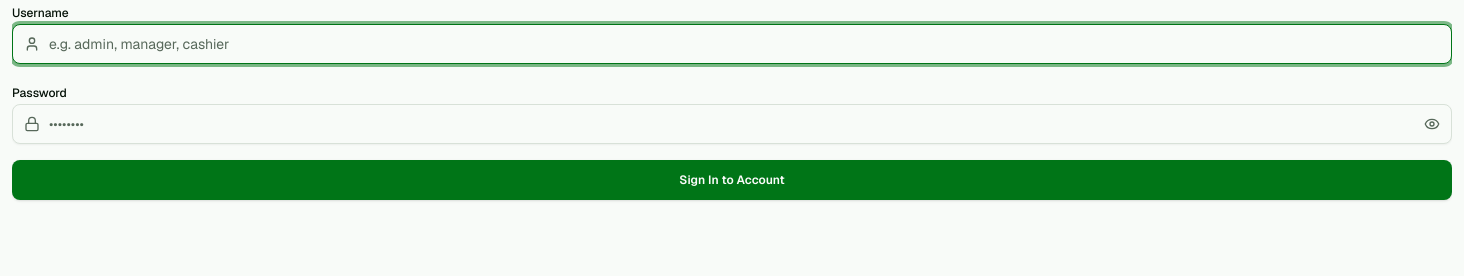
LoginForm › should handle unexpected errors during sign in
Type "test" into the field labelled "Username". click: point(732, 44)
box: [12, 24, 1452, 64]
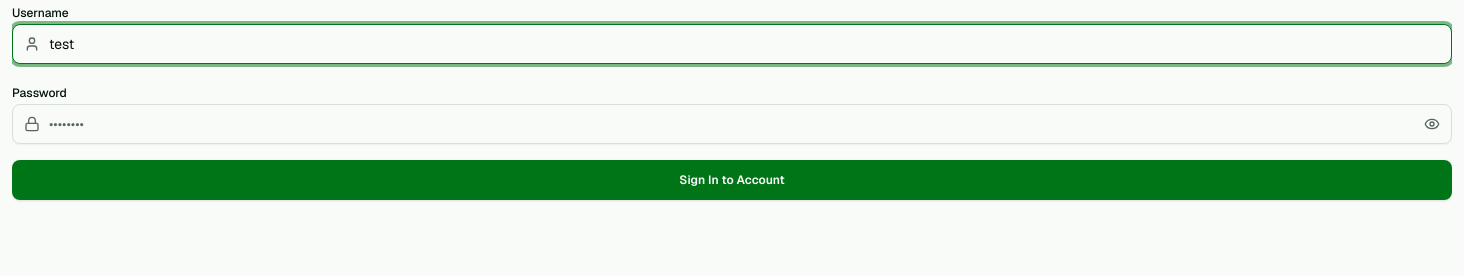
Type "password" into the password field labelled "Password". click: point(732, 124)
box: [12, 104, 1452, 144]
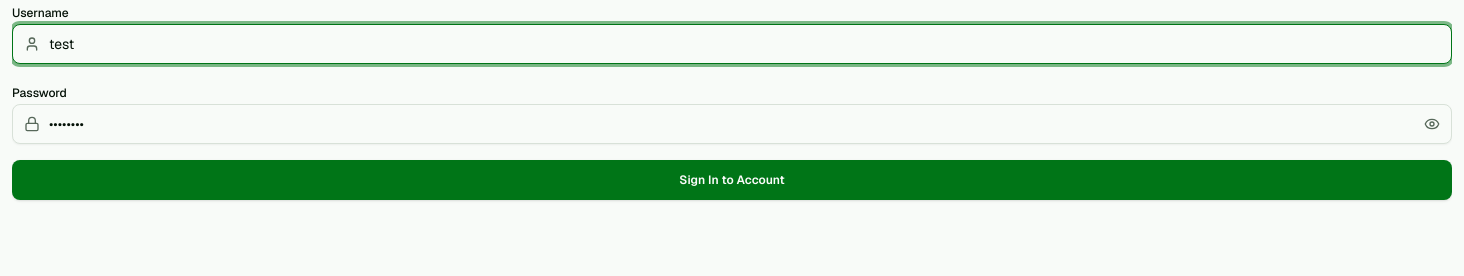
Click the button "Sign In to Account". click: point(732, 180)
box: [12, 160, 1452, 200]
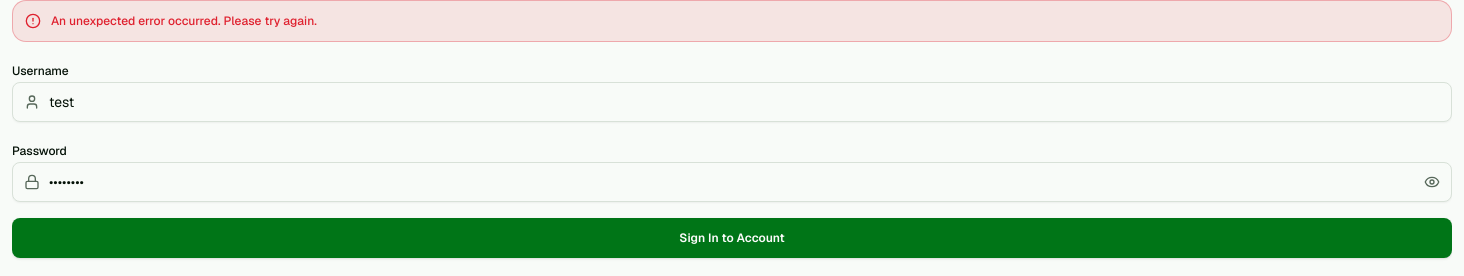
Expected: the text "An unexpected error occurred. Please try again." is shown, [51, 13, 317, 29]
